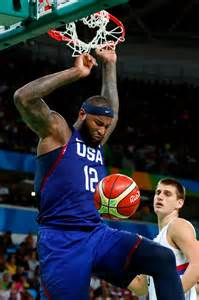basketball: (94, 173, 140, 220)
